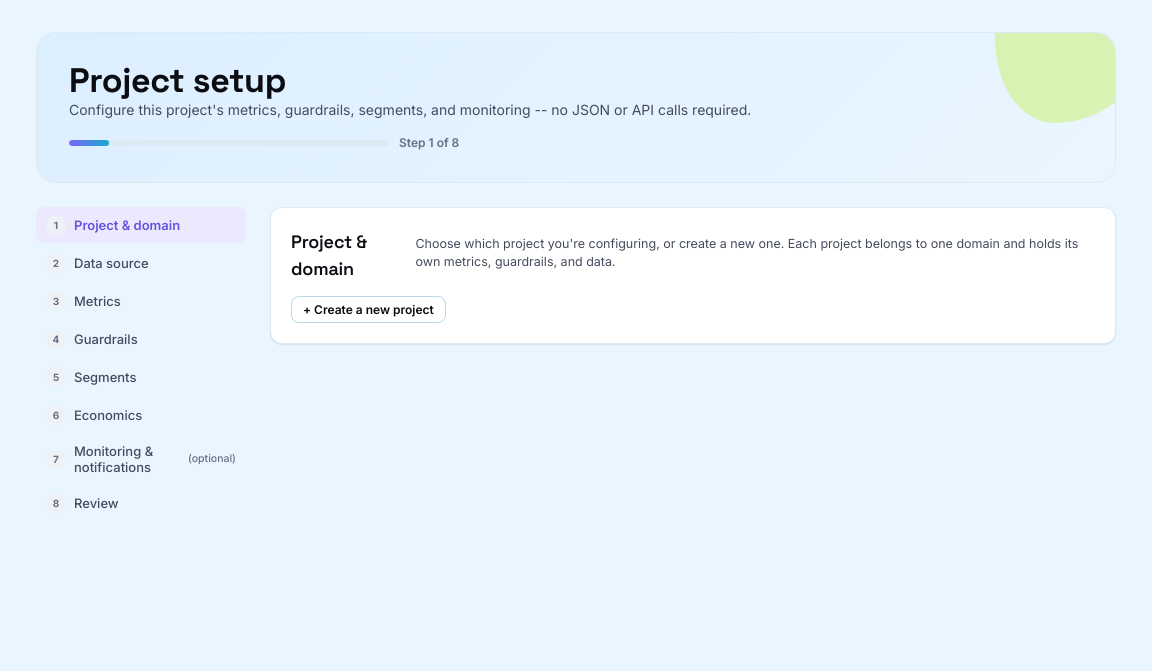
Test: OnboardingPage › config round trip: a saved value is reflected back after refetch
Click the button "3 Metrics": point(141, 301) [36,283,246,319]
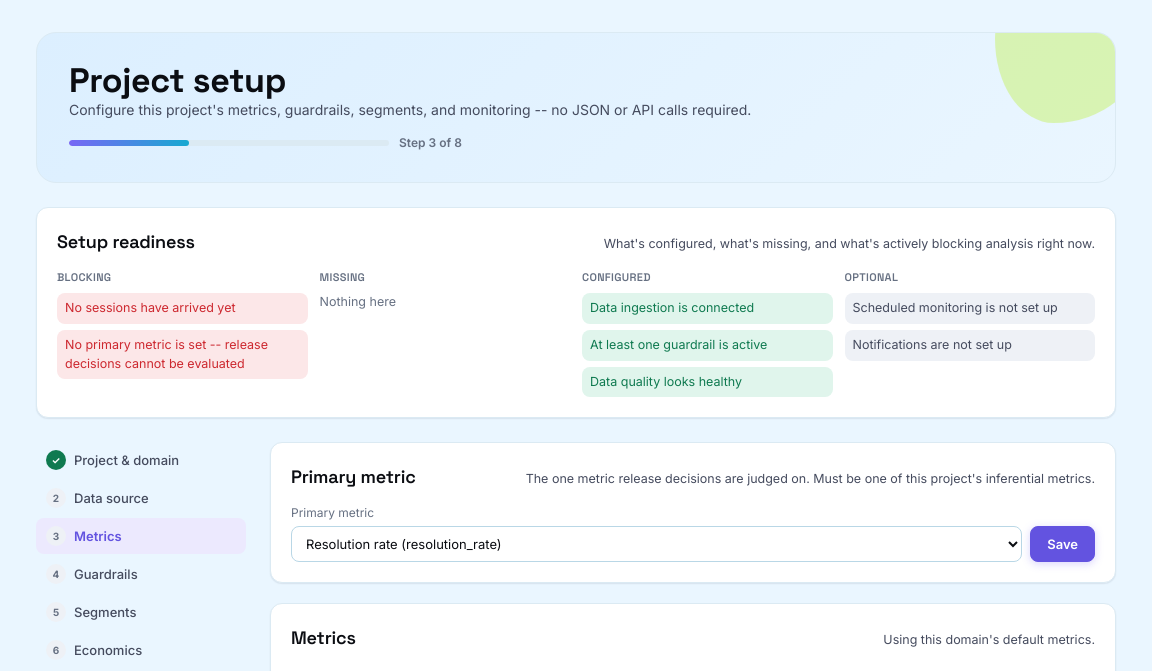
Now the dropdown labelled "Primary metric" shows "Resolution rate (resolution_rate)", box [291,526,1022,562]
